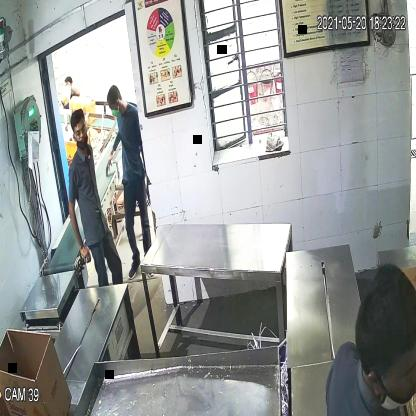goggles: (71, 122, 89, 141)
